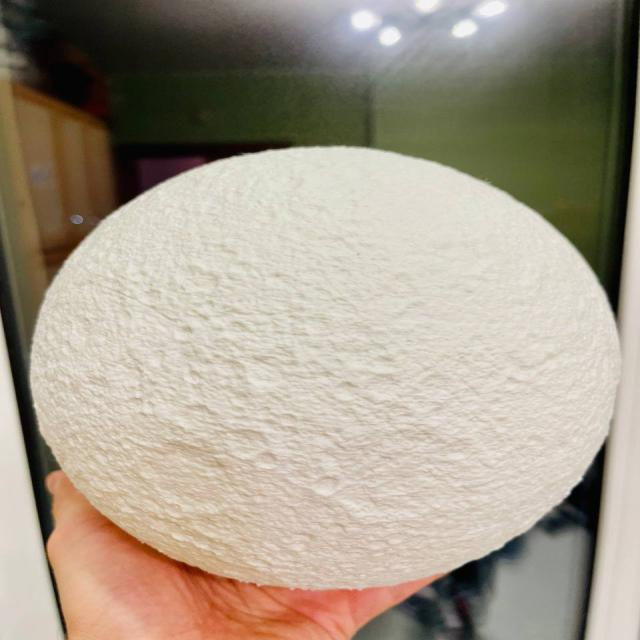Without deffect: (32, 137, 618, 599)
